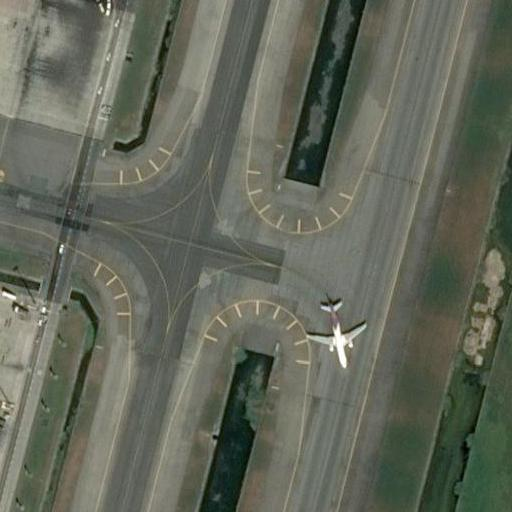Aircraft: (293, 292, 372, 373)
